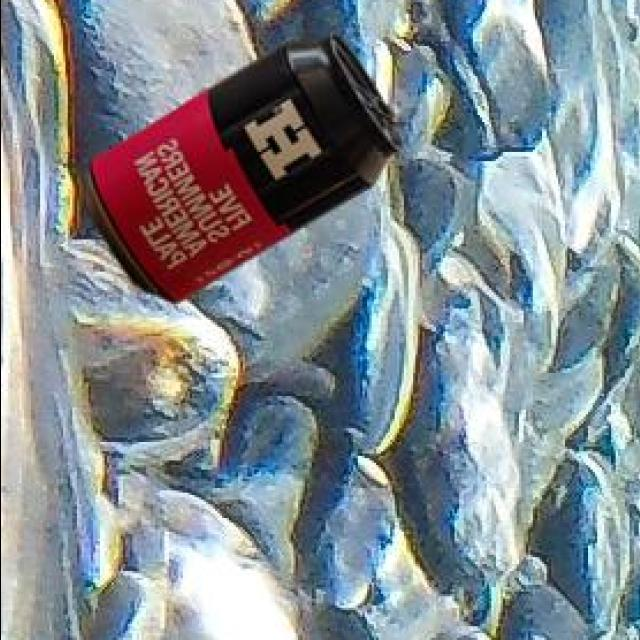logam: (89, 38, 404, 305)
